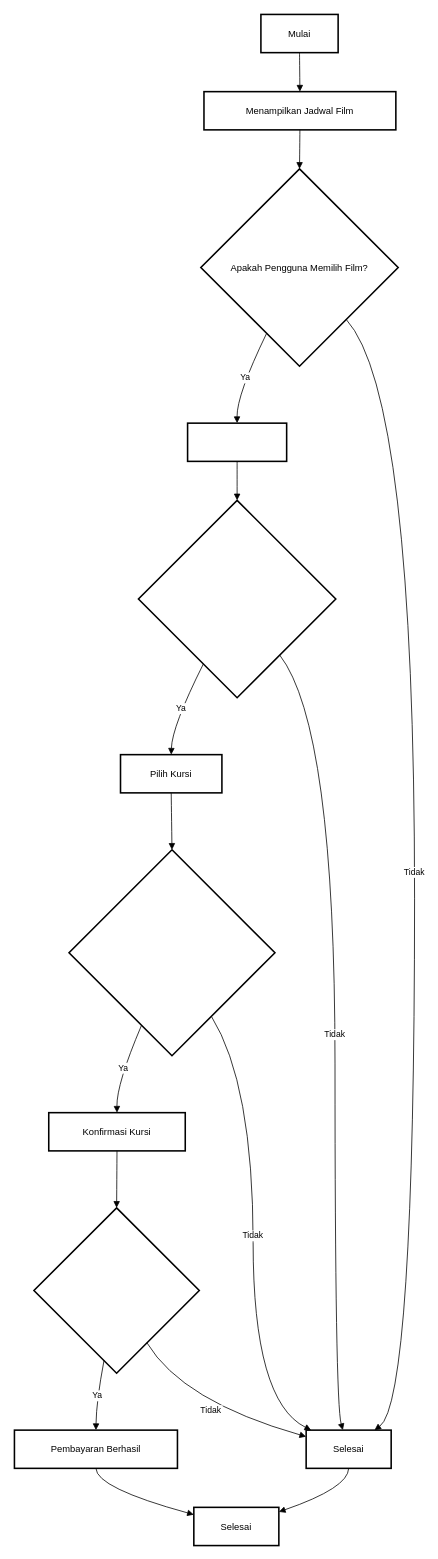
The diagram is 438 pixels wide and 1559 high, and some of its shapes have lost their labels. The centre of each missing label's shape, as x and y in pixels:
"Apakah Pembayaran Sukses?" goes at (x=116, y=1290).
"Apakah Pengguna Memilih Kursi?" goes at (x=236, y=598).
"Apakah Pengguna Mengonfirmasi Pemilihan Kursi?" goes at (x=171, y=952).
"Pilih Film" goes at (x=236, y=442).
